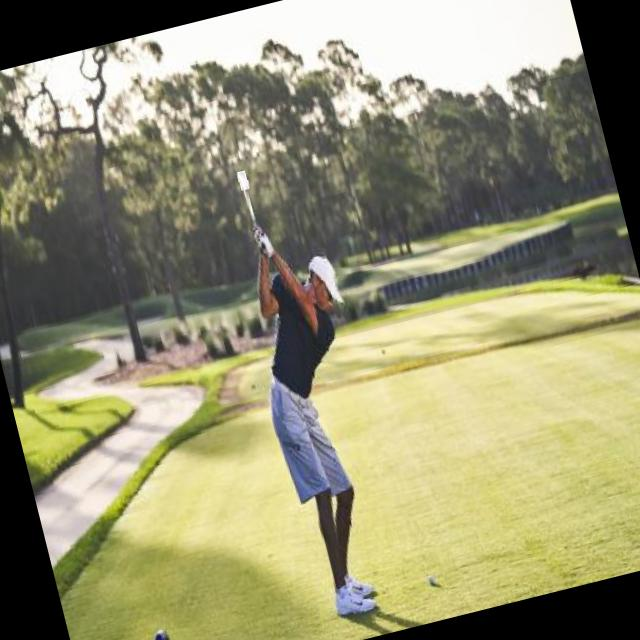club head: (237, 170, 250, 190)
